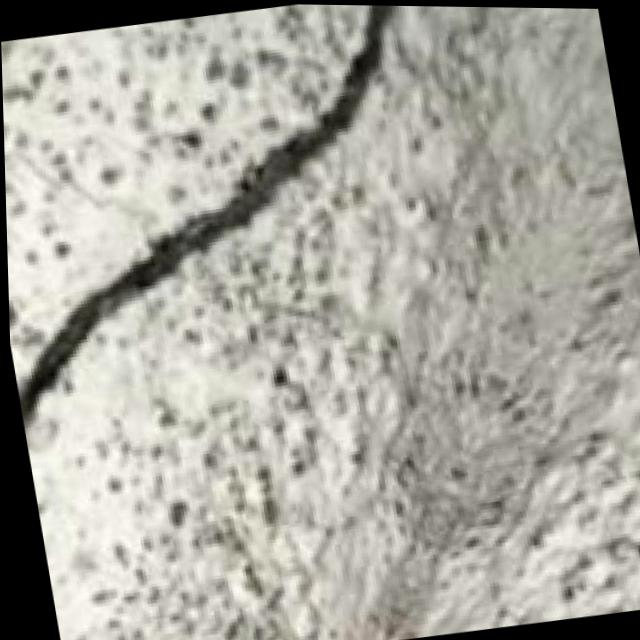Crack: (0, 0, 477, 449)
